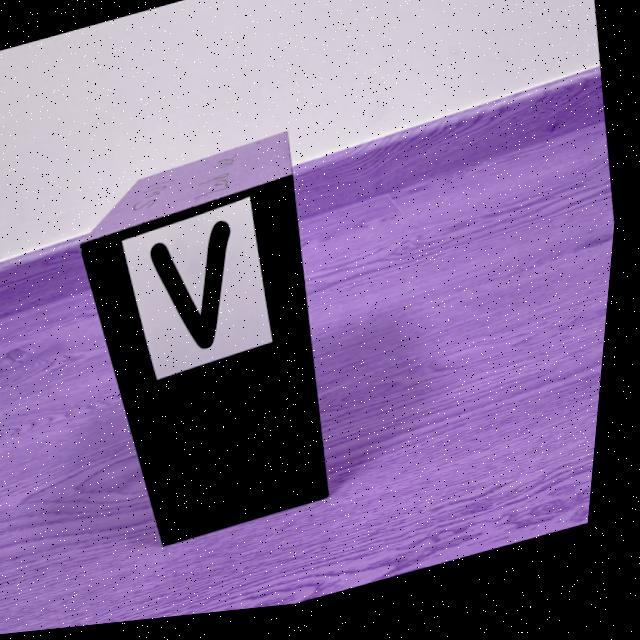V: (155, 225, 235, 354)
